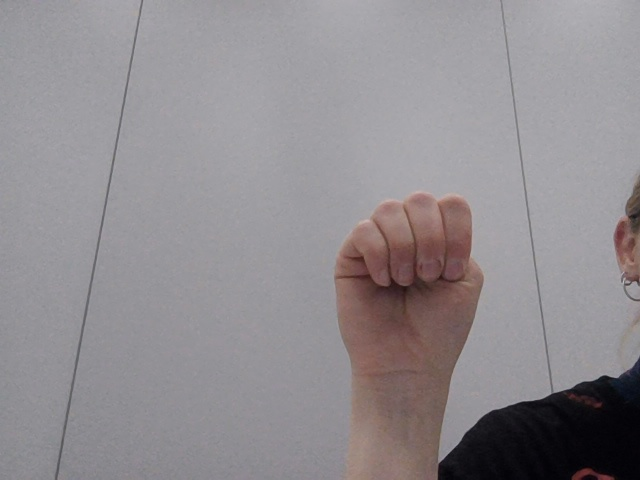down: (298, 180, 512, 394)
